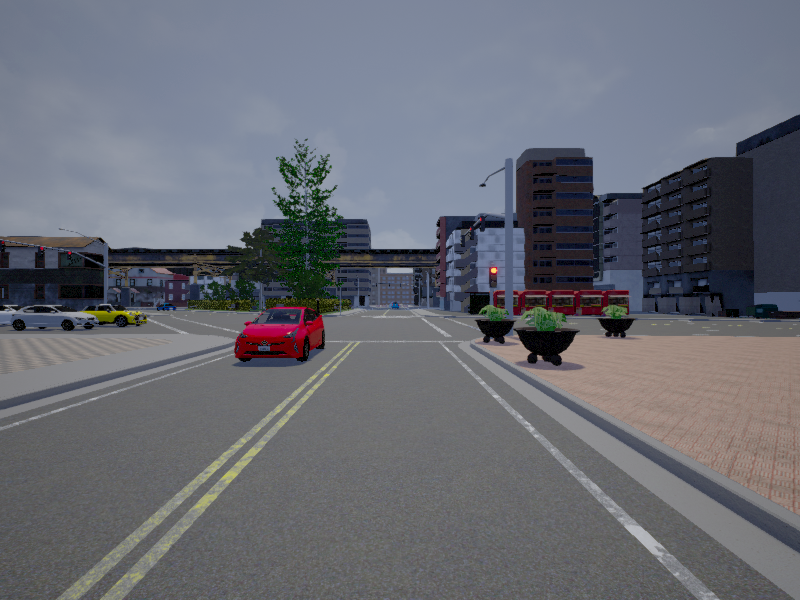Benign: (237, 303, 327, 363), (12, 304, 98, 332), (82, 304, 147, 327), (158, 301, 177, 312), (390, 300, 401, 309)
